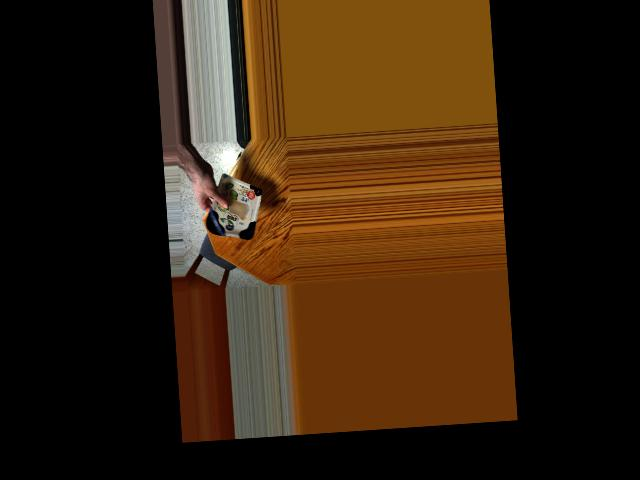cheese: (201, 181, 264, 244)
